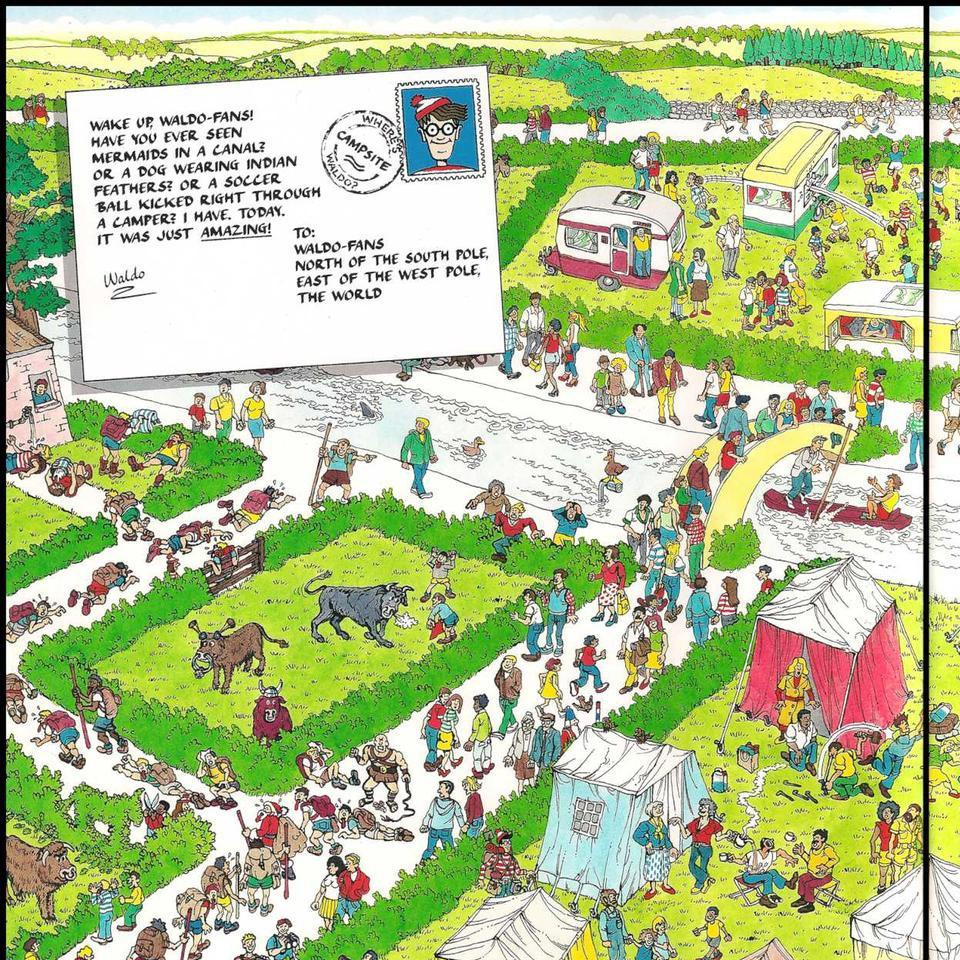waldo: (410, 93, 479, 175), (476, 827, 538, 897)
